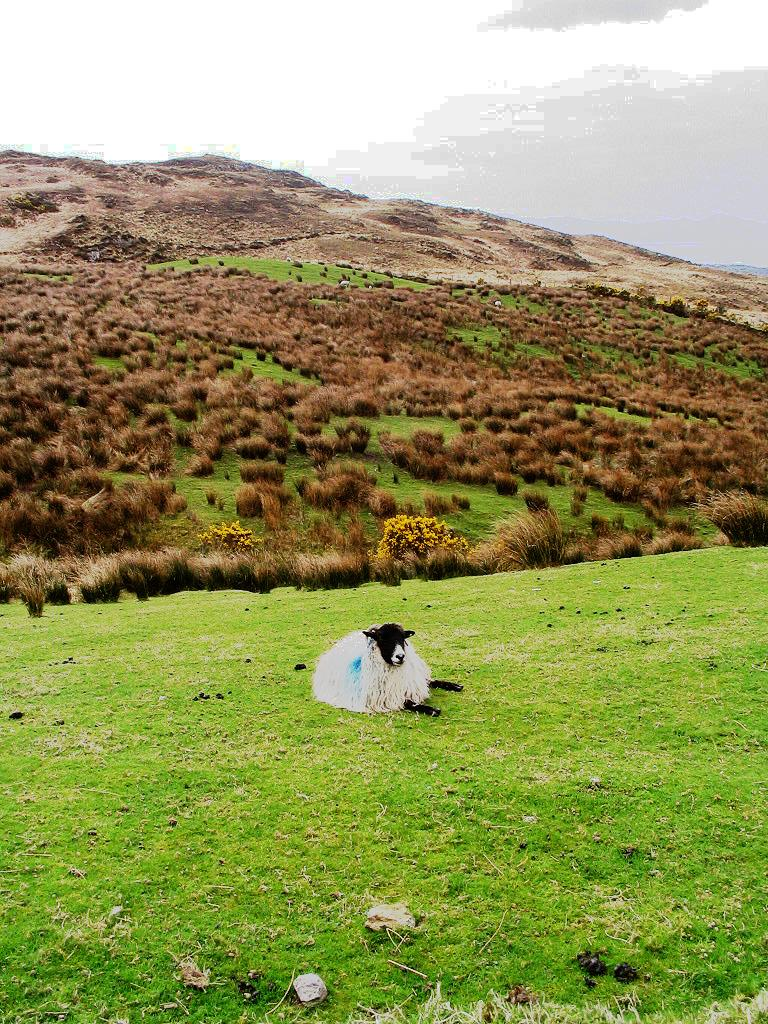Sheep: (307, 616, 468, 712)
